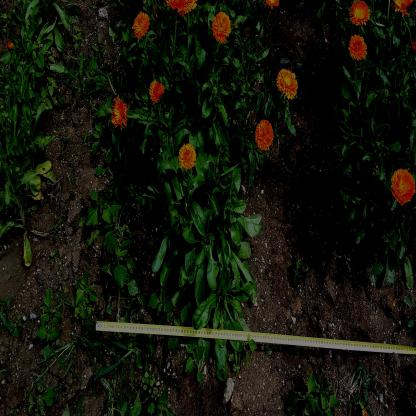marigold: (390, 170, 414, 205), (254, 120, 273, 151), (277, 68, 296, 97), (213, 13, 230, 40), (350, 1, 368, 24), (133, 13, 149, 37), (181, 144, 195, 170), (350, 36, 366, 58), (150, 83, 164, 103)
